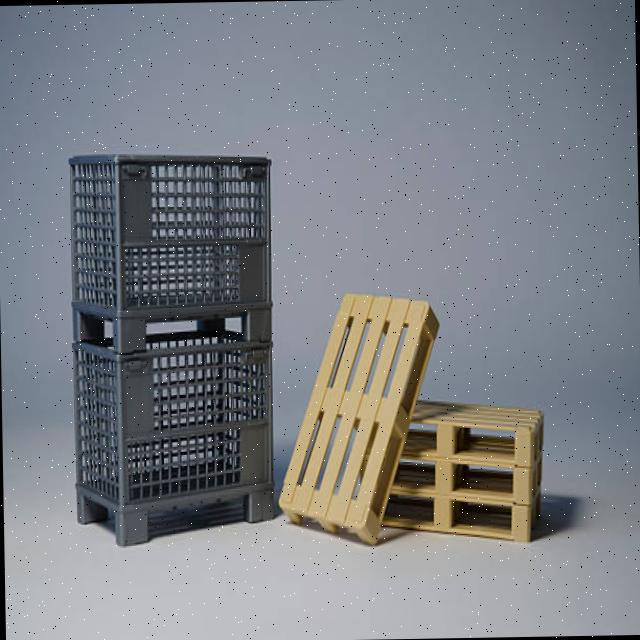Wooden-Pallets: (275, 288, 444, 536), (378, 497, 548, 555), (403, 398, 548, 462), (392, 450, 555, 502)
